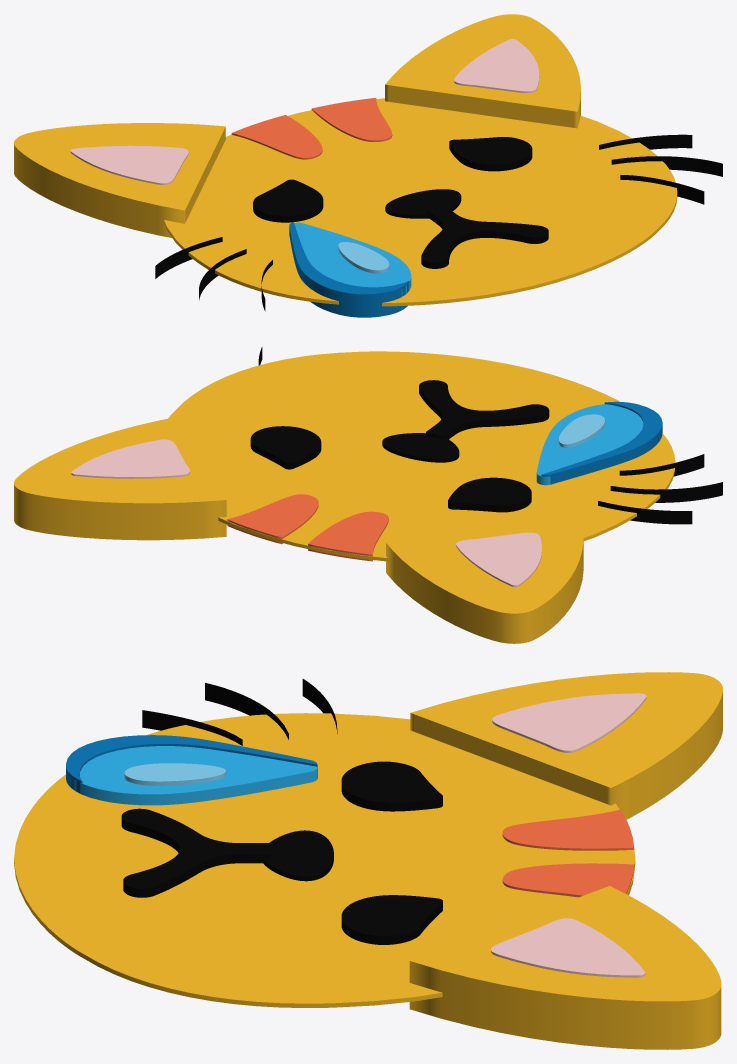
Rendered from emoji_u1f63f.glb.
3 renders of one model, top to bottom at view 1: azimuth 30°, elevation 25°; view 2: azimuth 150°, elevation 25°; view 3: azimuth 270°, elevation 25°, orthographic. The views are drawn at different scales.
Visible parts, largest first — view 1: emoji_u1f63f; view 2: emoji_u1f63f; view 3: emoji_u1f63f.
Part boxes in pixels (bbox=[...]): emoji_u1f63f: bbox=[14, 14, 722, 317]; emoji_u1f63f: bbox=[14, 347, 722, 643]; emoji_u1f63f: bbox=[14, 672, 722, 1049].
Size of the model in its own units: 0.0337 by 0.0024 by 0.0292.
